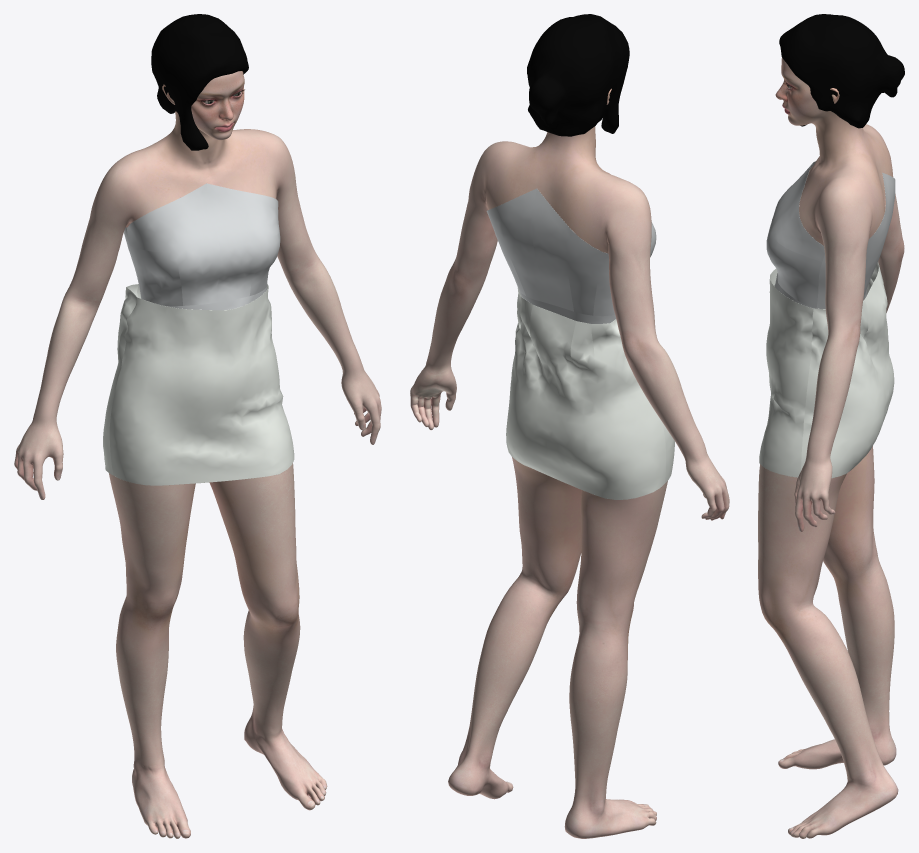
The model's file is random.obj.
The picture shows the model from 3 angles, left to right: view 1: azimuth 30°, elevation 25°; view 2: azimuth 150°, elevation 25°; view 3: azimuth 270°, elevation 25°; orthographic projection. The views are drawn at different scales.
Bounding box in the file's own units: 775 × 1773 × 305.
